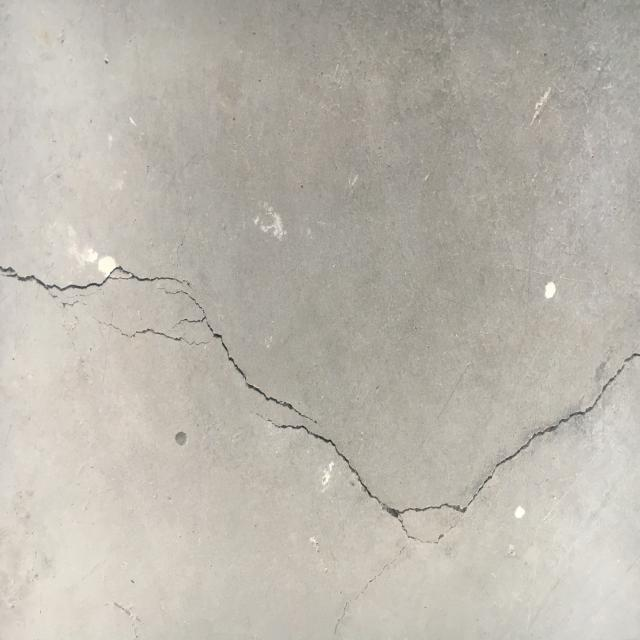Rachadura: (0, 252, 640, 554)
